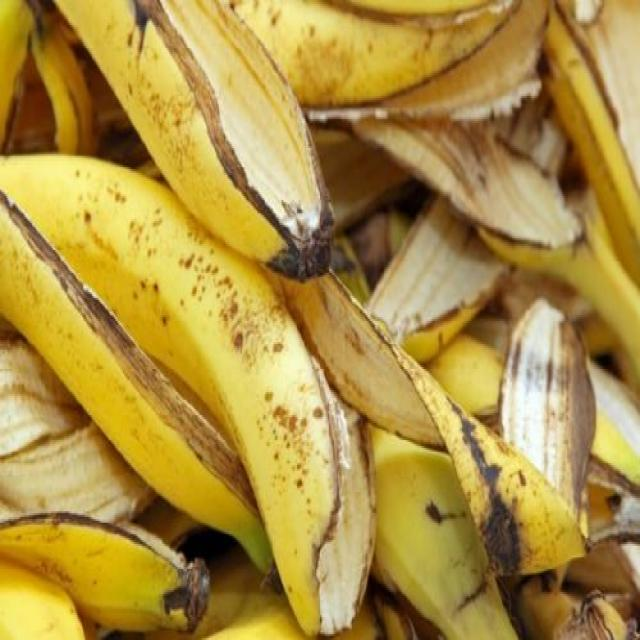Cascara de banano: (2, 149, 379, 640), (50, 0, 335, 283), (0, 515, 207, 640)
